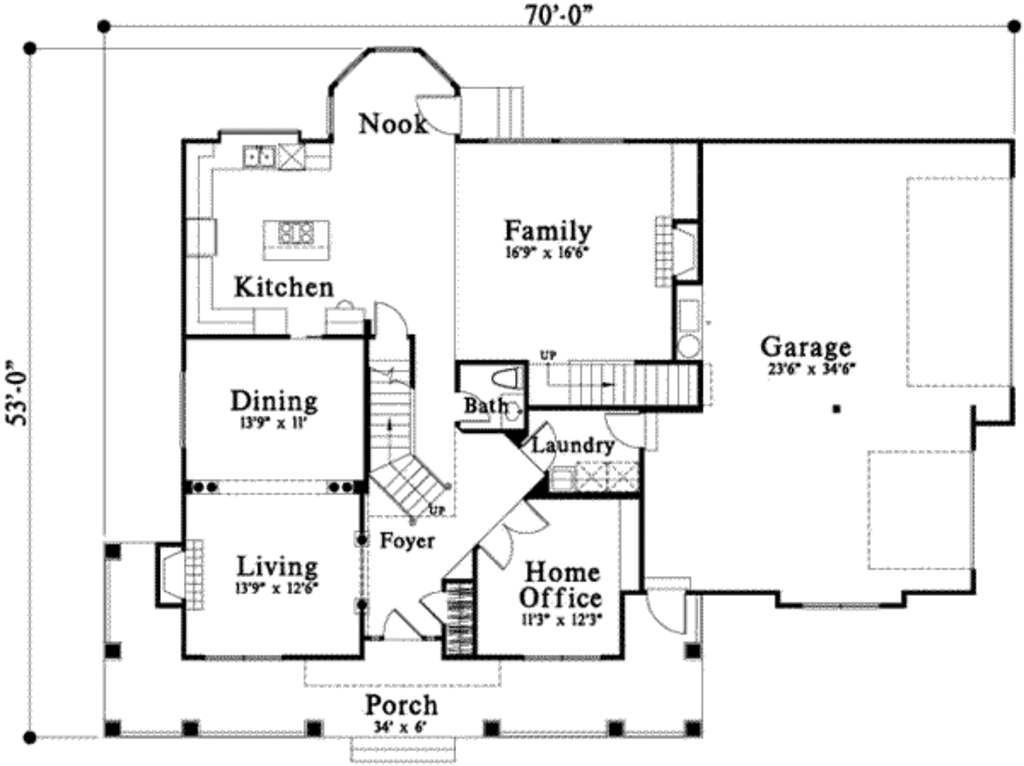door: (464, 503, 560, 573), (634, 565, 696, 641), (606, 408, 670, 458), (416, 86, 459, 143), (520, 418, 562, 473), (446, 389, 493, 433), (416, 584, 459, 629), (369, 303, 410, 341), (379, 608, 420, 645)
large_sink: (489, 355, 524, 389)
small_sink: (499, 392, 525, 430)
stairs: (360, 342, 456, 521), (540, 349, 709, 411)
twin_sink: (231, 134, 281, 170)
